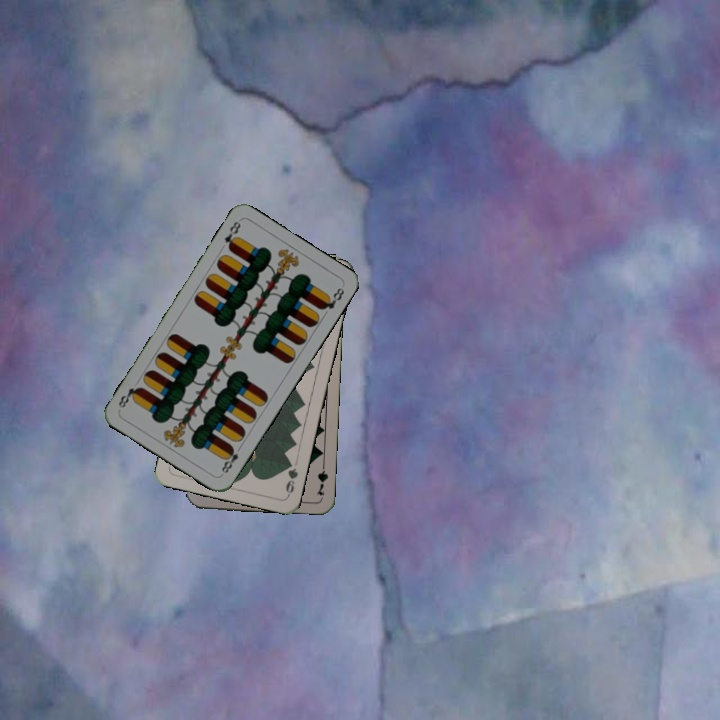E8: (217, 441, 245, 476), (220, 217, 243, 253)
G7: (313, 458, 331, 498)
G9: (282, 457, 301, 498)
